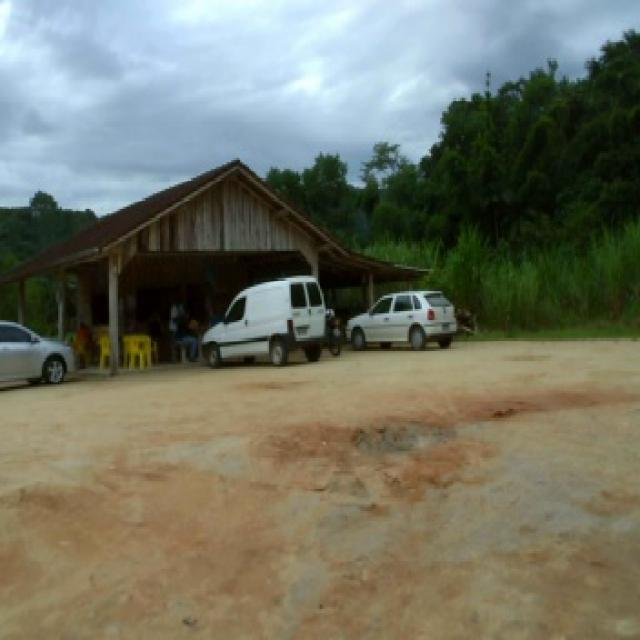Poth-hole: (349, 416, 458, 456), (490, 402, 514, 420)
